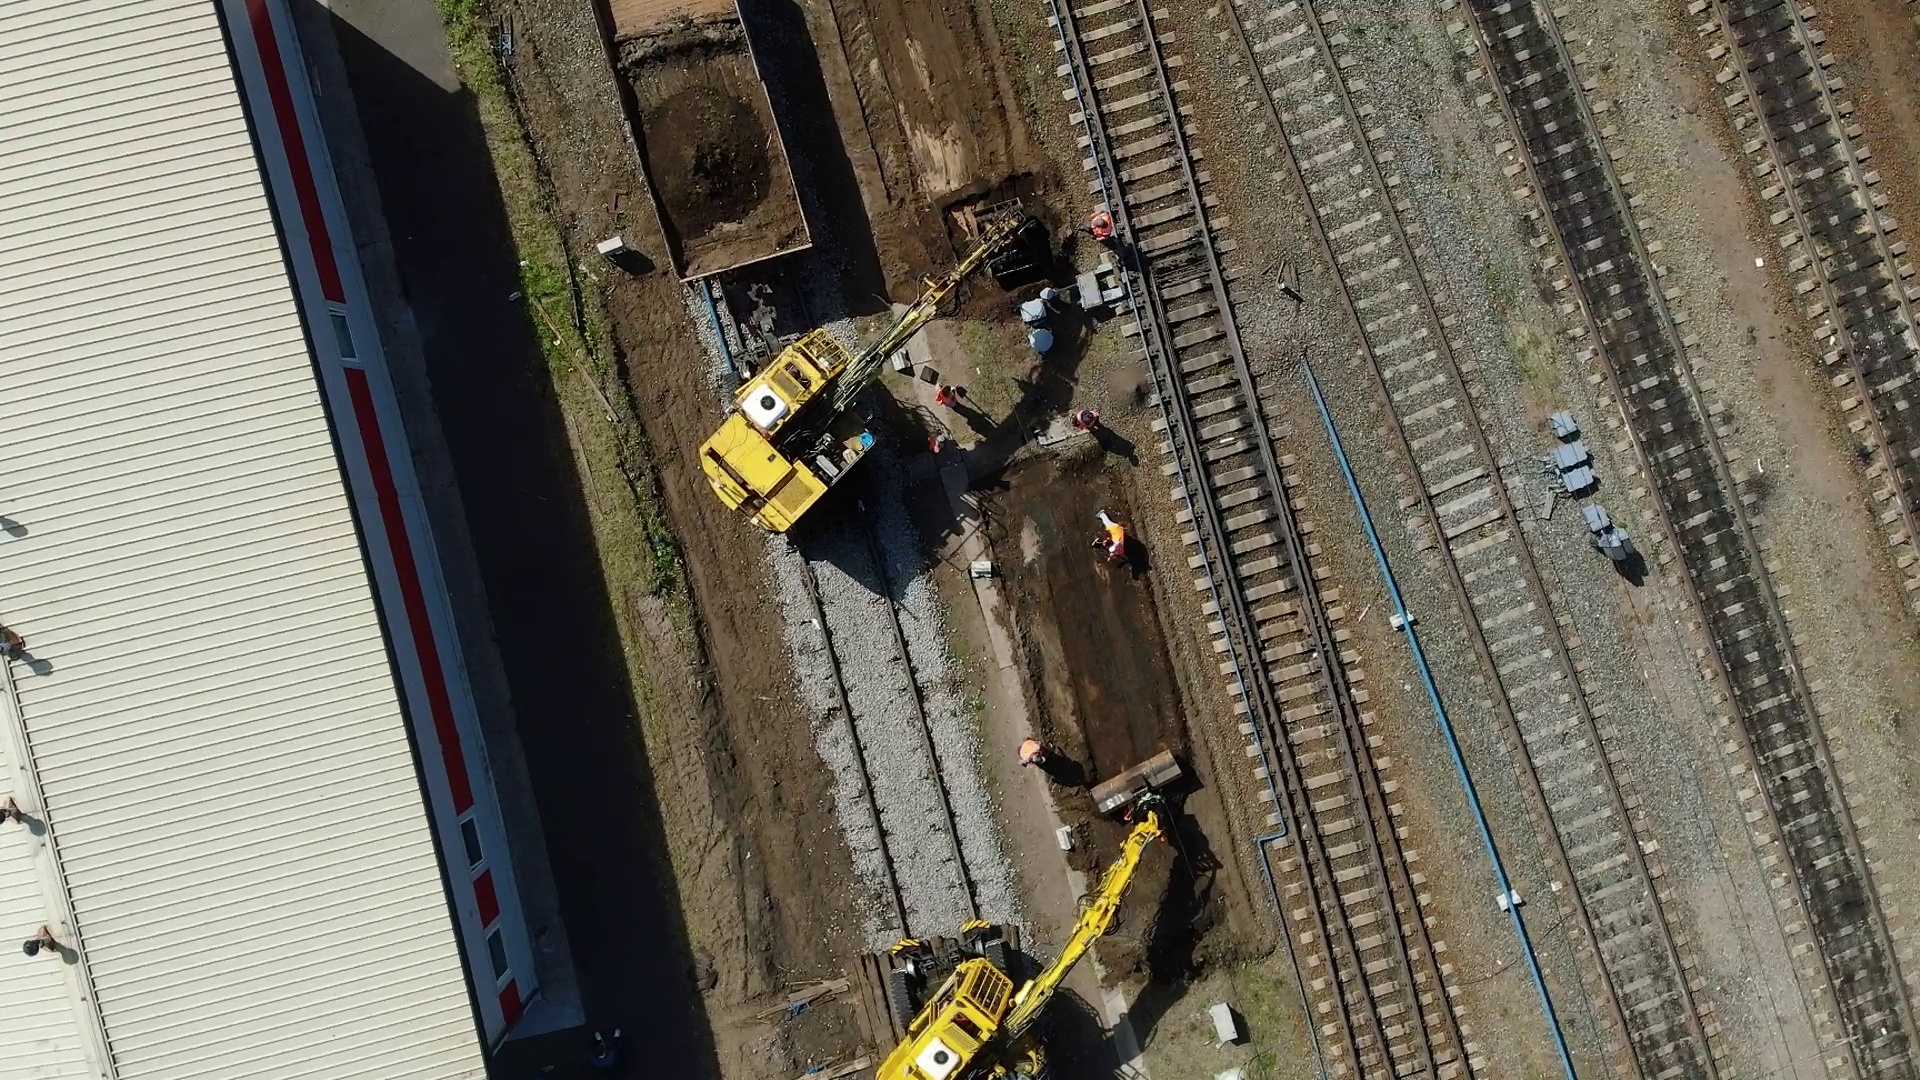kjtv: (700, 311, 919, 524), (854, 904, 1102, 1080)
